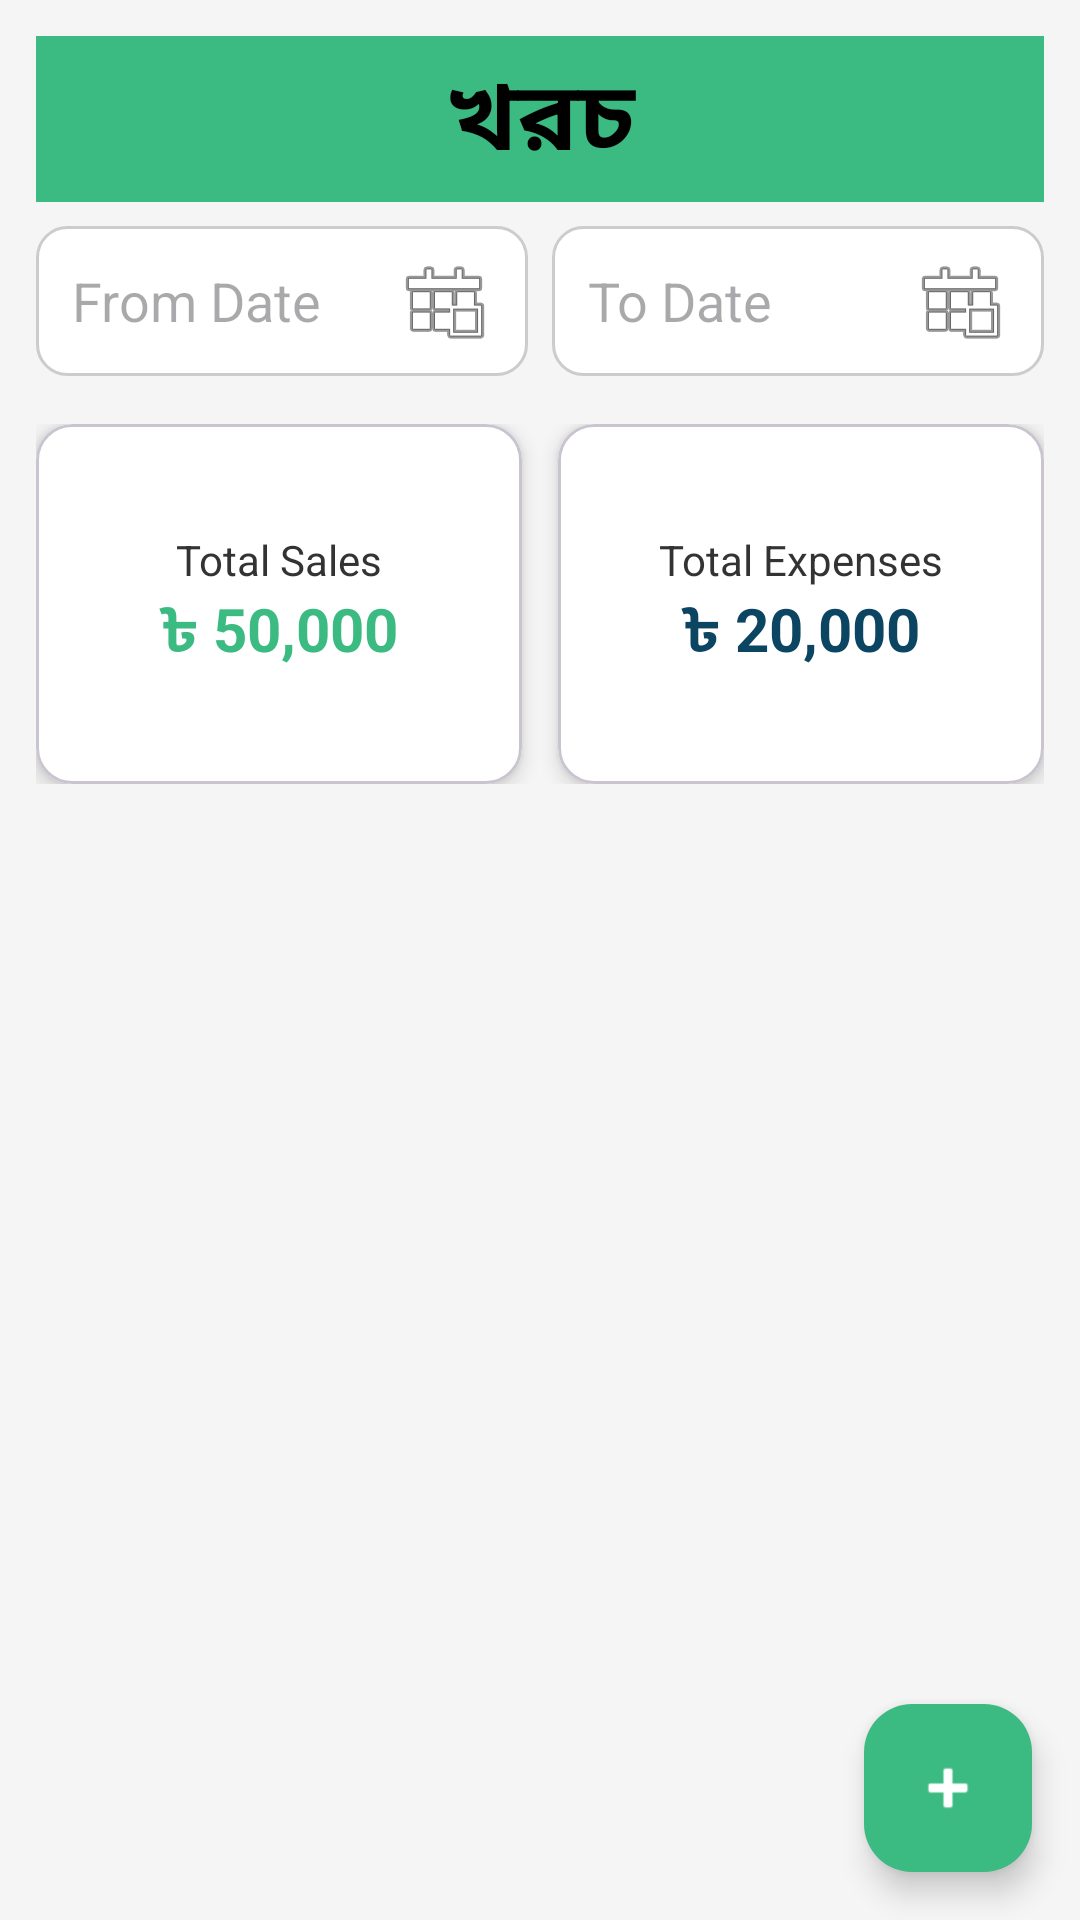

Icons on this 1080px×1920px Android screen, each with its box as (x1, y1, x2, y2):
Add Expense: (864, 1704, 1032, 1872)
